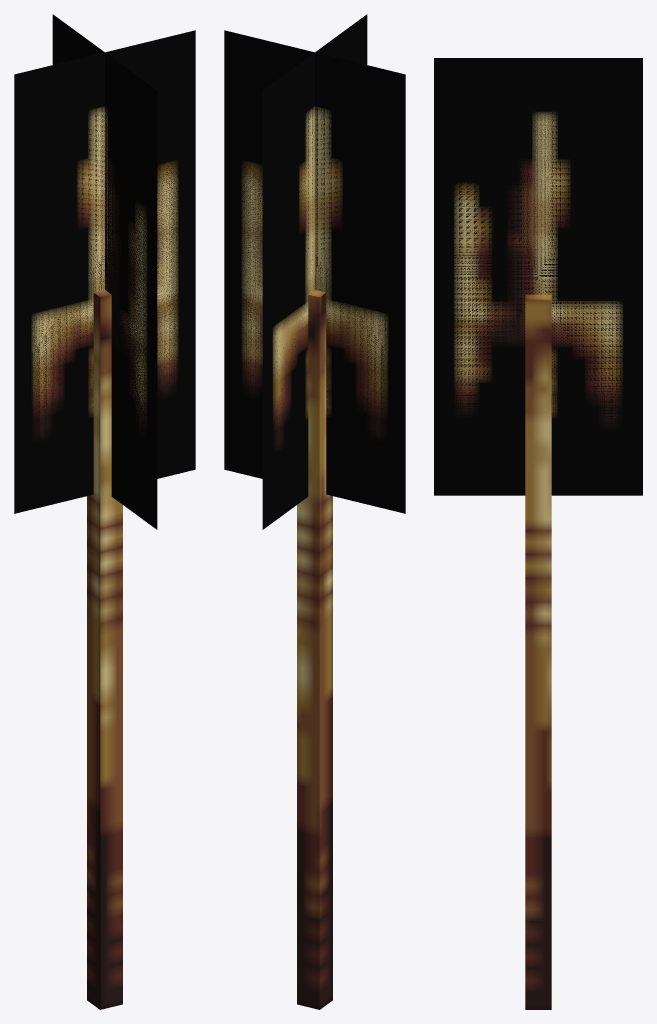
File: ancient_spear.obj
The picture shows the model from 3 angles, left to right: view 1: azimuth 30°, elevation 25°; view 2: azimuth 150°, elevation 25°; view 3: azimuth 270°, elevation 25°; orthographic projection.
Visible parts, largest first — view 1: root; view 2: root; view 3: root.
Part boxes in pixels (x1,y1,x2,y2): root: [14, 14, 195, 1009]; root: [224, 14, 405, 1009]; root: [434, 58, 642, 1009].
Bounding box in the file's own units: 16 × 80 × 16.
Materials: 1 (1 with a texture image).
